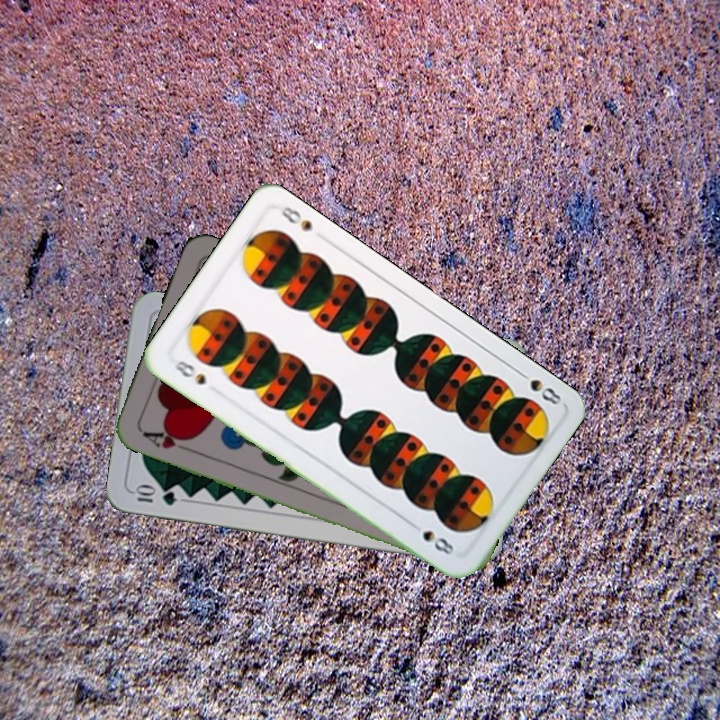G10: (131, 483, 179, 508)
HA: (138, 425, 195, 454)
S8: (512, 366, 564, 408), (170, 356, 209, 388)
